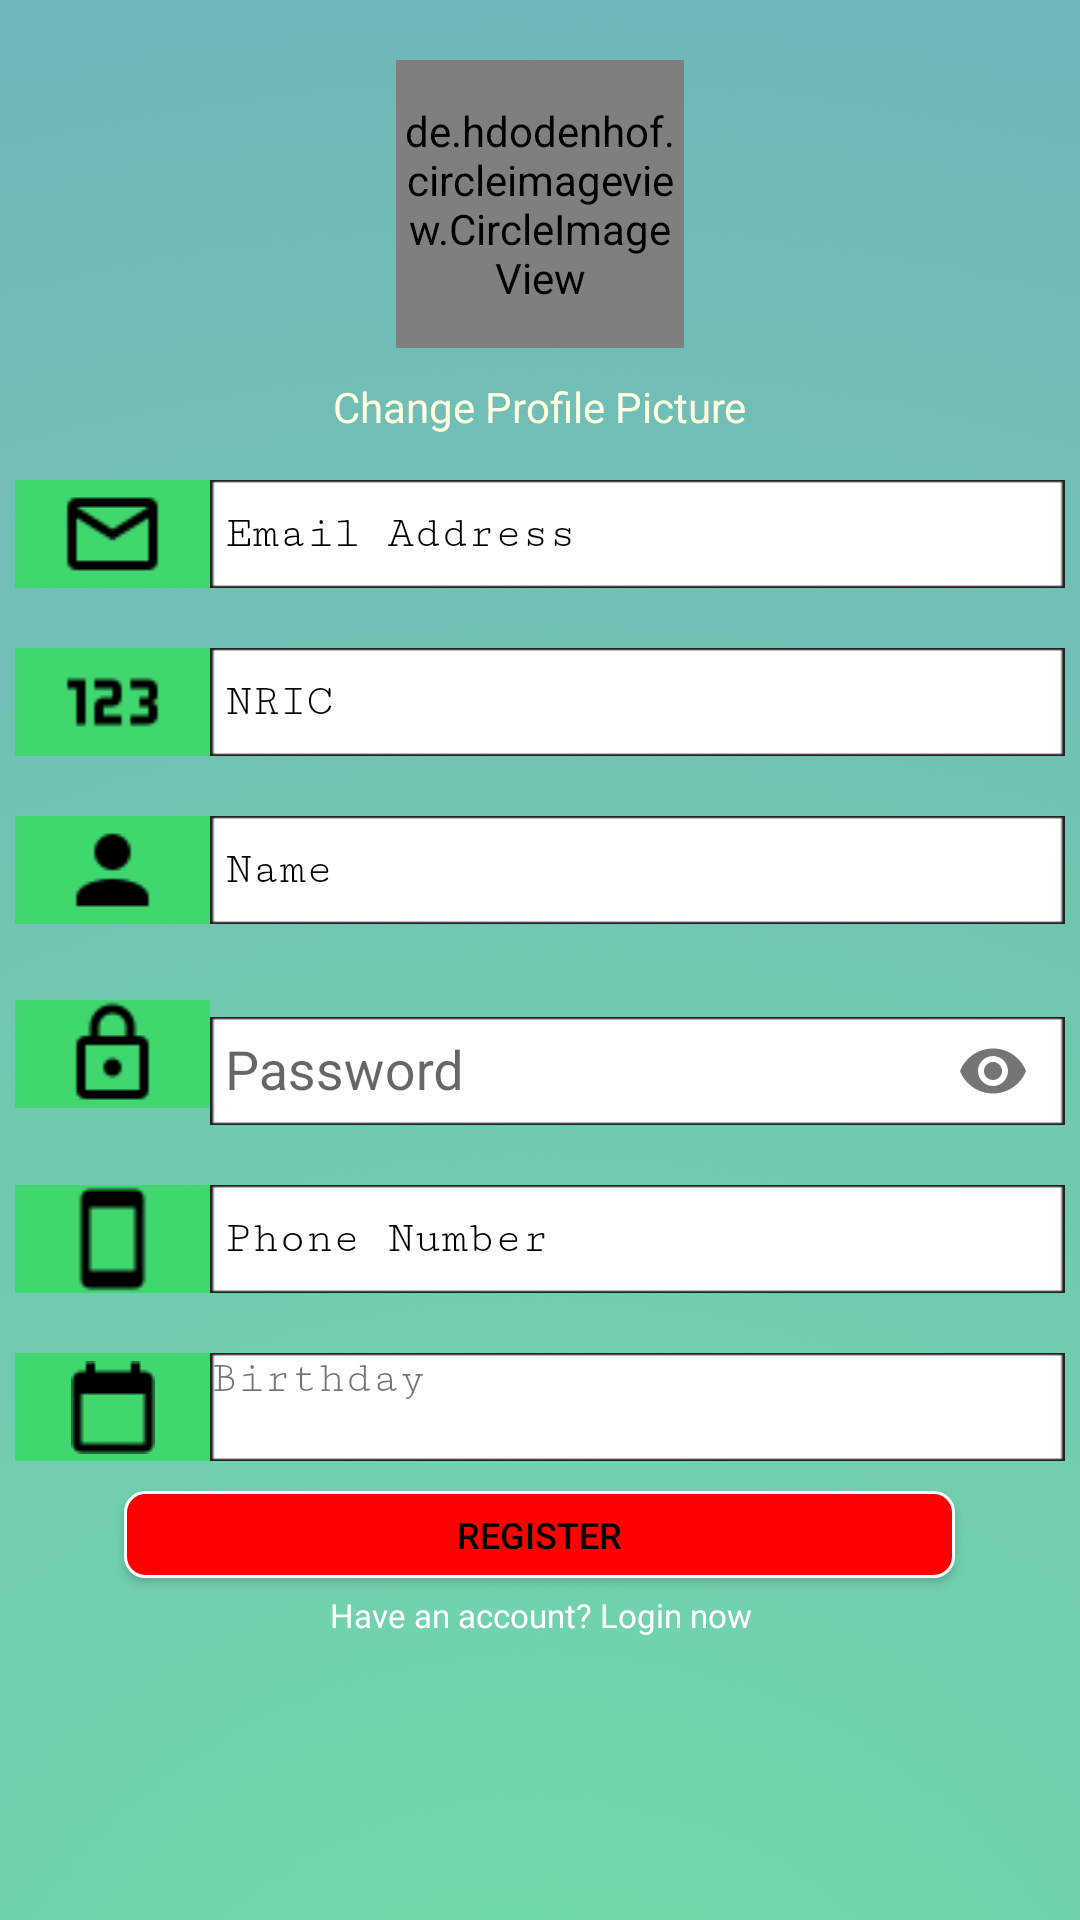

Locate icon controls on the screen. Image size 1080*1920, boxes as (x1, y1, x2, y2).
account: (15, 816, 210, 924)
calendar blank: (15, 1353, 210, 1461)
lock: (15, 1000, 210, 1108)
numeric: (15, 648, 210, 756)
